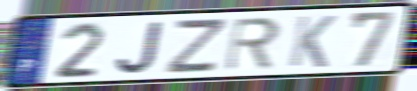2: (53, 20, 105, 79)
7: (349, 10, 399, 69)
J: (114, 20, 165, 76)
K: (286, 14, 338, 69)
R: (223, 15, 283, 73)
Z: (162, 16, 230, 75)
